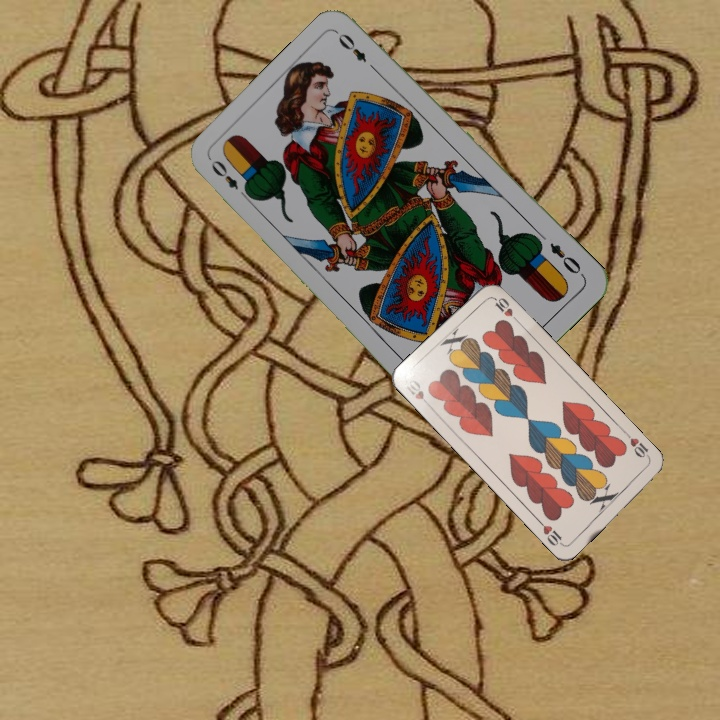EO: (206, 155, 253, 202), (545, 238, 584, 277)
H10: (399, 375, 434, 411), (622, 429, 653, 463)
